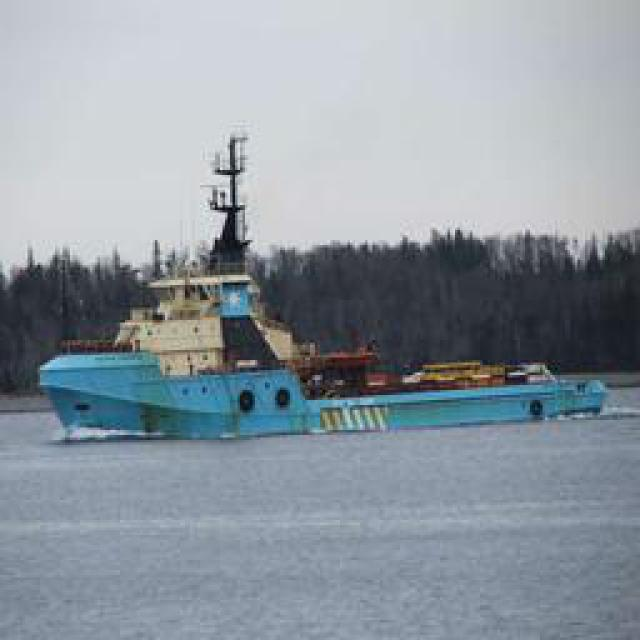Ship: (41, 119, 346, 442)
